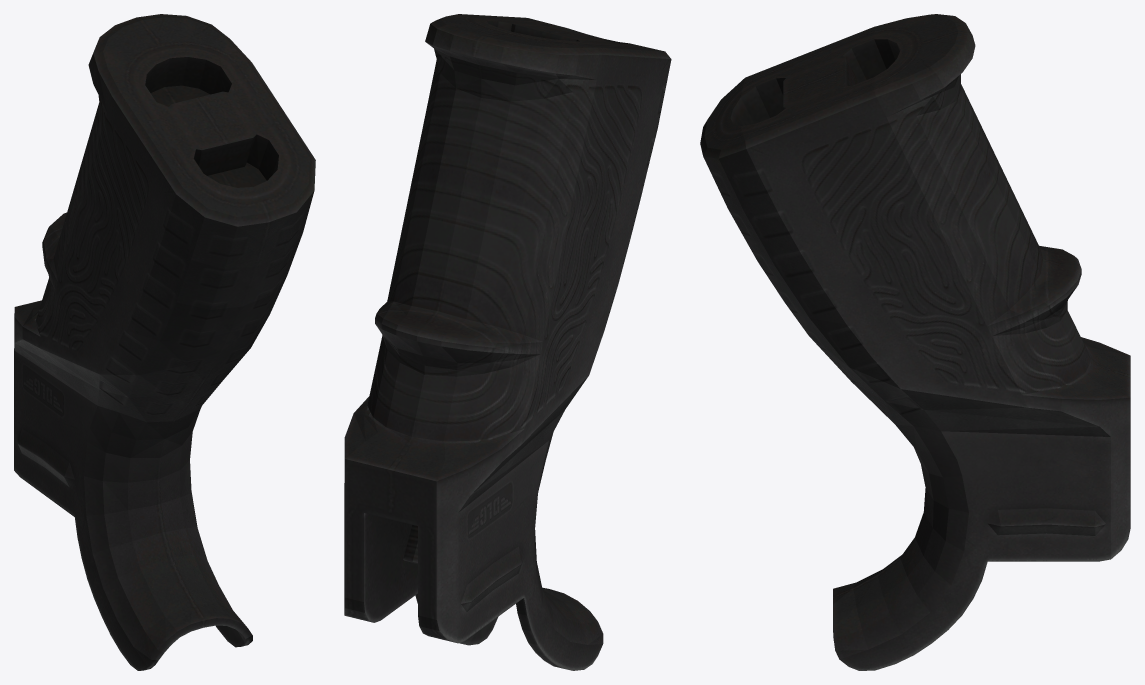
3 renders of one model, left to right at view 1: azimuth 30°, elevation 25°; view 2: azimuth 150°, elevation 25°; view 3: azimuth 270°, elevation 25°, orthographic. The views are drawn at different scales.
Parts seen in each view (by area): view 1: TW_602e71bd53a60014f9705bfa_PZ_Import; view 2: TW_602e71bd53a60014f9705bfa_PZ_Import; view 3: TW_602e71bd53a60014f9705bfa_PZ_Import.
Boxes of the visible parts, x1,y1,x2,y2 form: TW_602e71bd53a60014f9705bfa_PZ_Import: [14, 14, 315, 670]; TW_602e71bd53a60014f9705bfa_PZ_Import: [344, 14, 671, 670]; TW_602e71bd53a60014f9705bfa_PZ_Import: [700, 14, 1130, 670].
Size of the model in its own units: 0.0181 by 0.0476 by 0.0747.
1 material, 1 textured.
